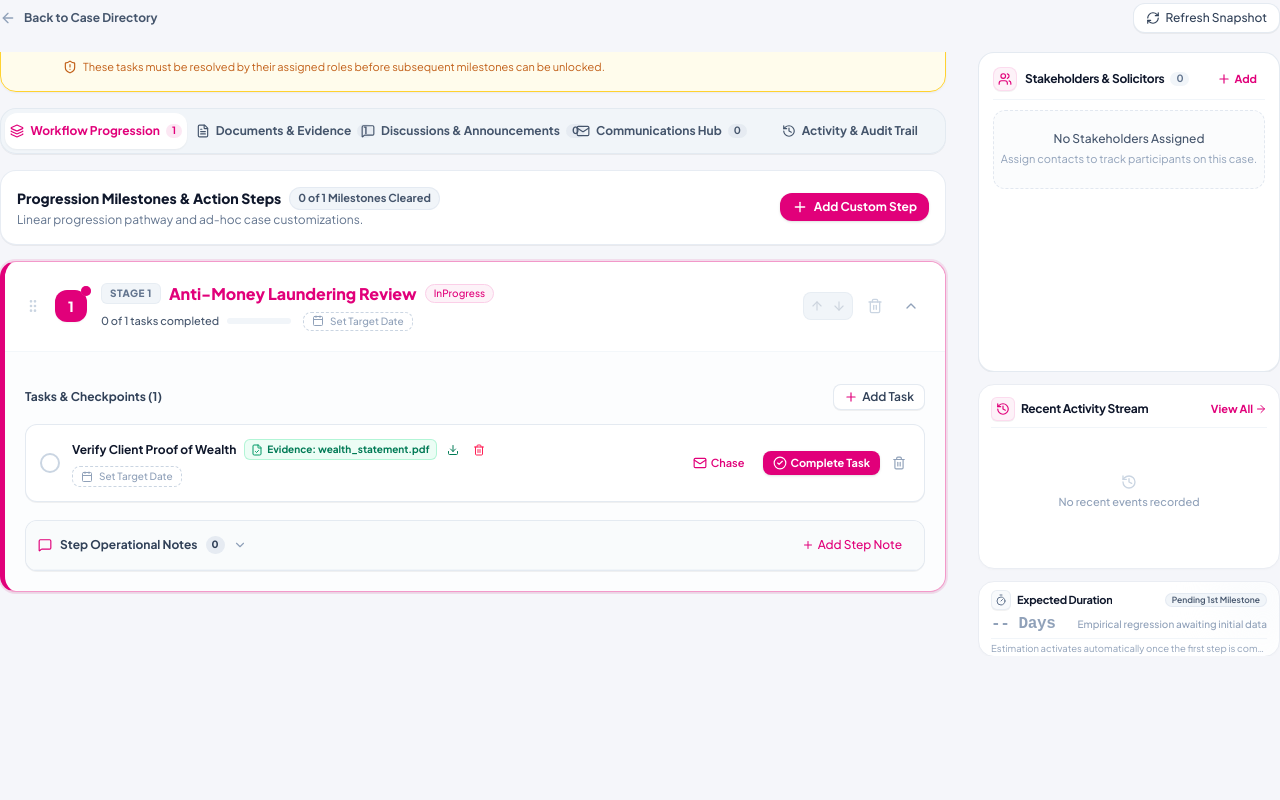
Case Workspace Components › Ad-hoc Case Customization (Epic 1) › allows deleting attached evidence document, which dynamically transforms Complete Task button back to Upload Evidence
The image size is (1280, 800).
(page scrolled)
expect the text "Evidence: wealth_statement.pdf" is shown: met, box [267,442,430,457]
expect the button "Complete Task" is shown: met, box [762,451,880,475]
Click the button named "Remove evidence document".
click(479, 450)  # box [469,440,489,460]
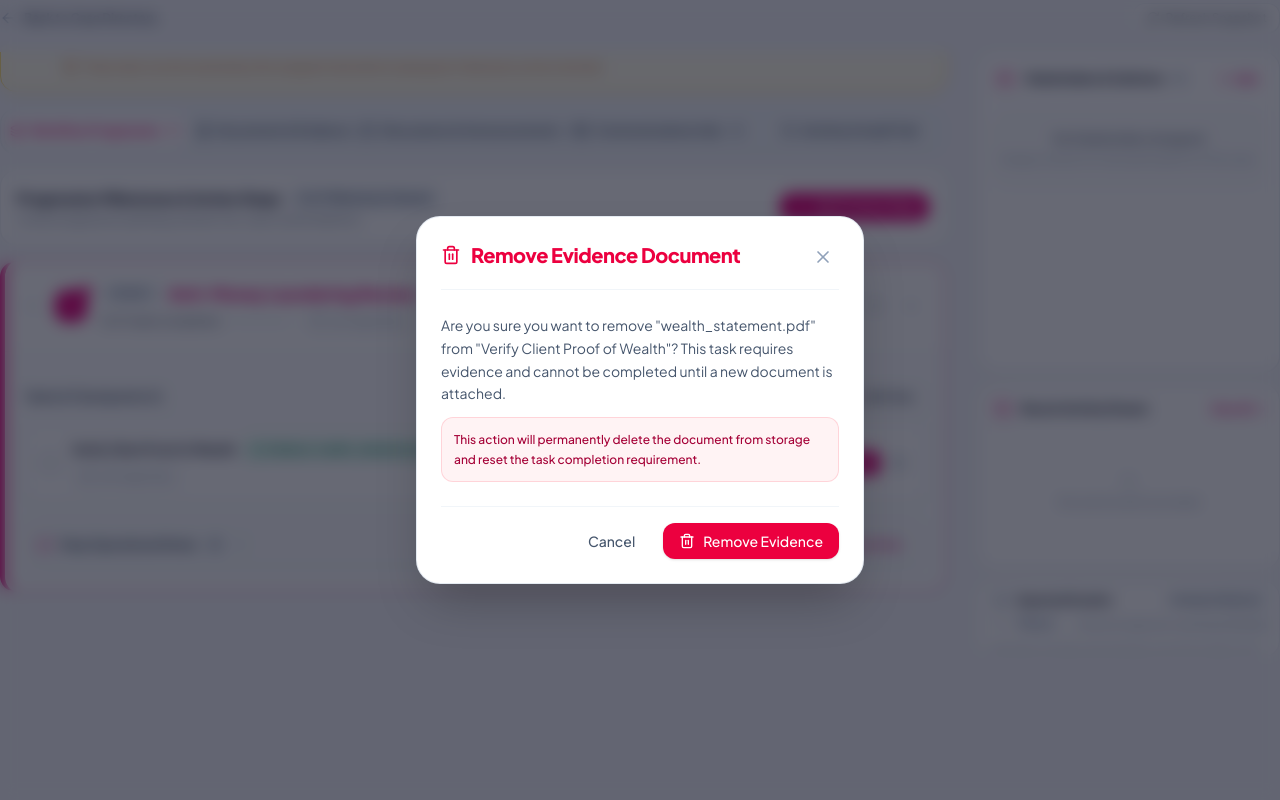
expect the text "Are you sure you want to remove \"wealth_statement.pdf\"" is shown: met, box [441,316,833,402]
Click the button "Remove Evidence".
click(751, 541)  # box [663,523,839,559]
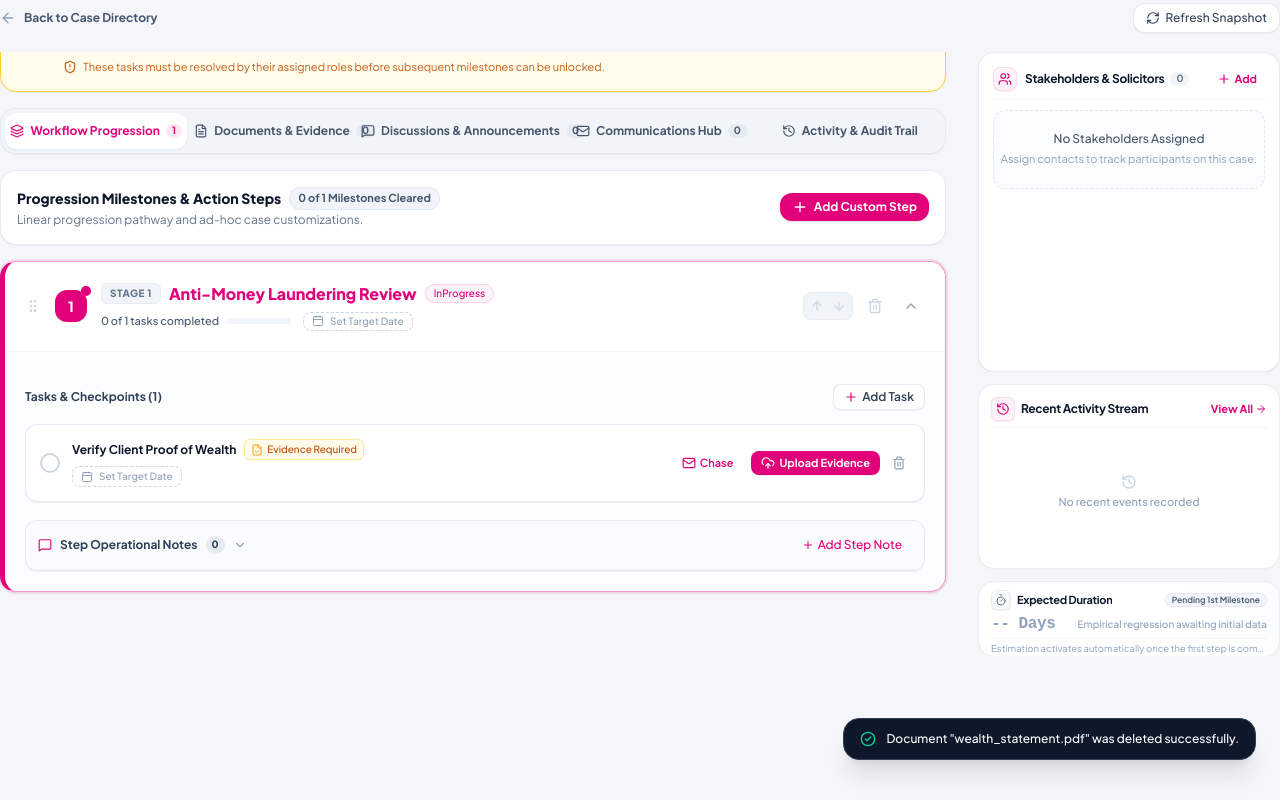
expect the button "Upload Evidence" is shown: met, box [751,451,880,475]
expect the text "Evidence Required" is shown: met, box [267,442,357,457]
